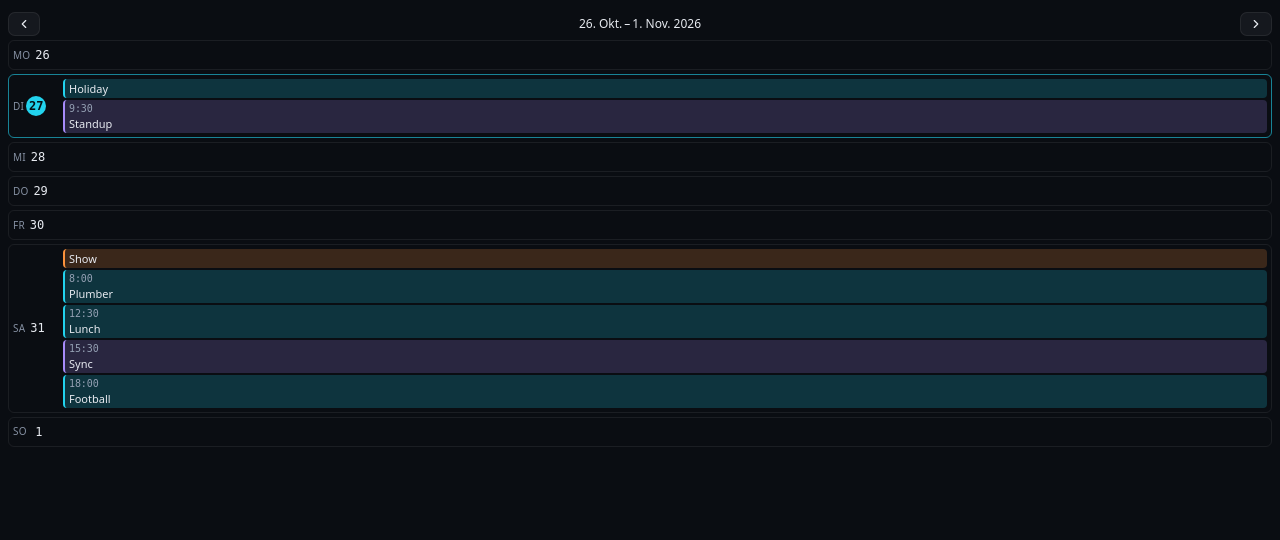
Test case: the week › pages by a week and picks a day by its heading
The image size is (1280, 540).
Click the button named "Next" at (1256, 24), box [1240, 12, 1272, 36]
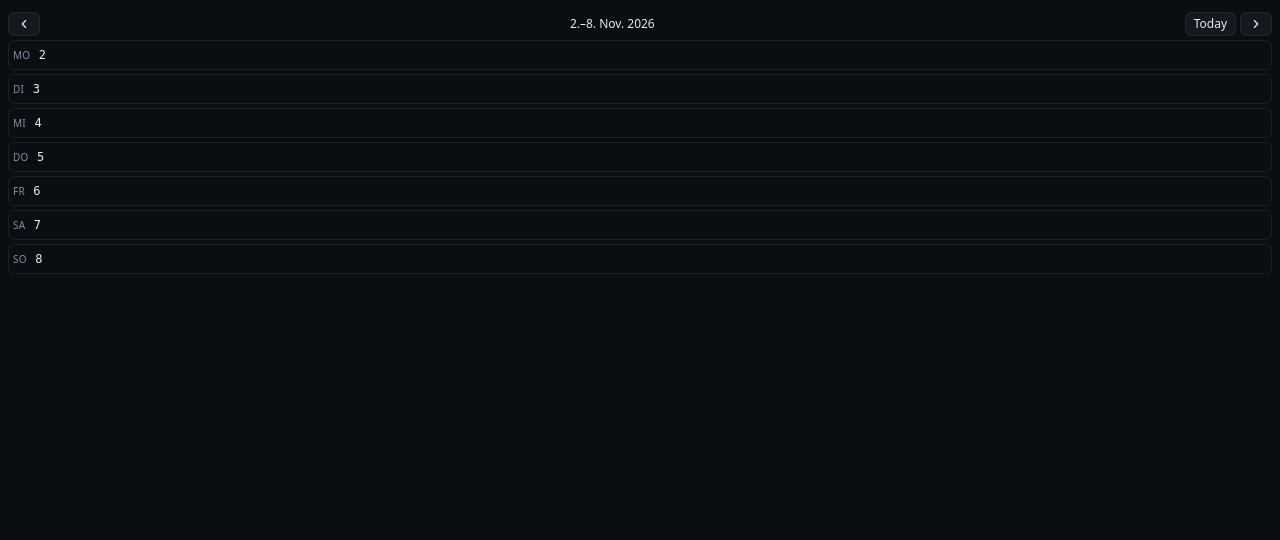
Expected: the element with test id "calendar-day" has attribute data-day="2026-11-02", [8, 40, 1272, 70]
Click the button named "Previous" at (24, 24), box [8, 12, 40, 36]
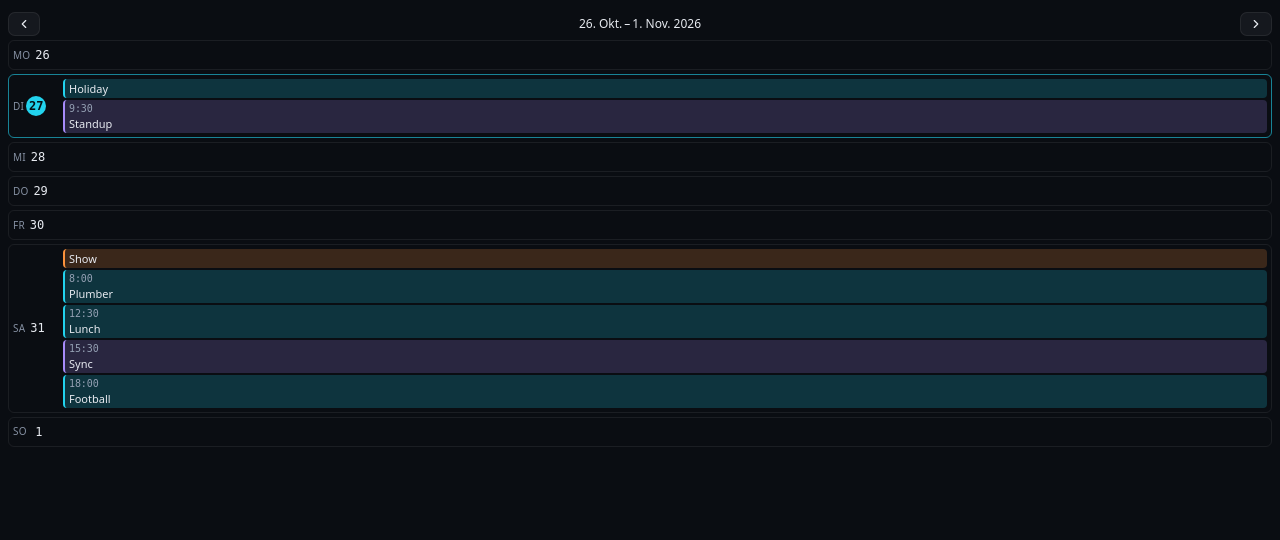
Click the button "Di 27" at (35, 106), box [13, 79, 57, 133]
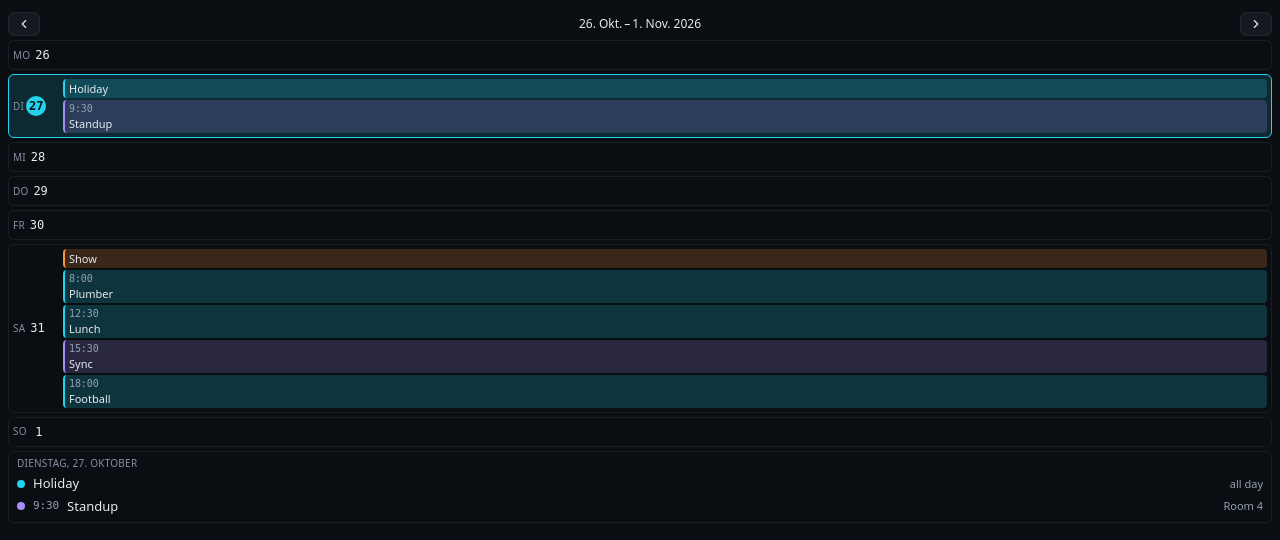
Expected: the element with test id "calendar-picked" shows "Room 4", [1223, 498, 1263, 513]
